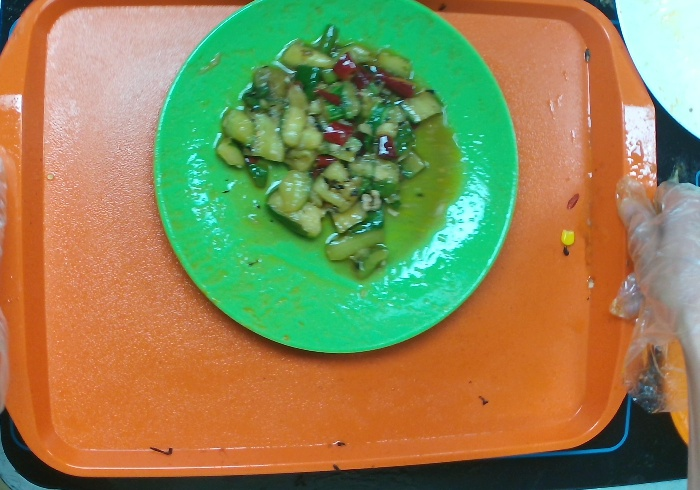HZYJPL-Lv_Se_Yuan_Pan: (150, 1, 518, 356)
